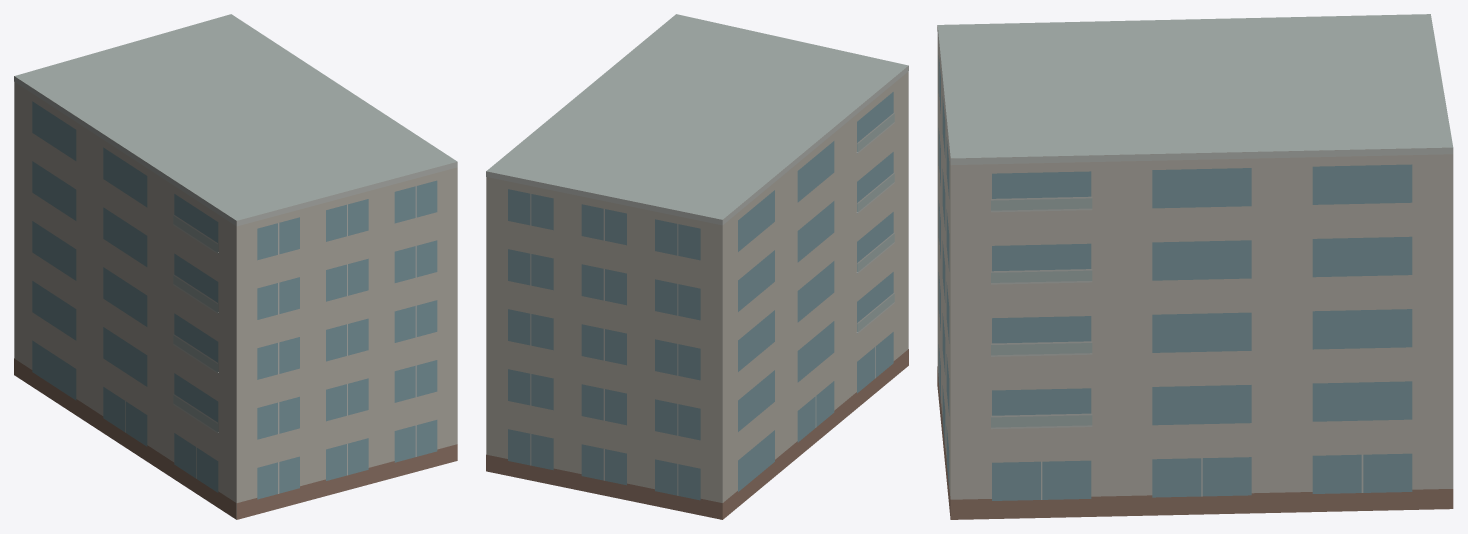
File: survey-upis-32737613.glb
3 views of the same model, side by side, from view 1: azimuth 30°, elevation 25°; view 2: azimuth 150°, elevation 25°; view 3: azimuth 270°, elevation 25° (orthographic). The views are drawn at different scales.
Parts seen in each view (by area): view 1: survey-upis-32737613.tmp; view 2: survey-upis-32737613.tmp; view 3: survey-upis-32737613.tmp.
Boxes of the visible parts, <box> form: survey-upis-32737613.tmp: <box>14,14,457,519</box>; survey-upis-32737613.tmp: <box>486,14,908,519</box>; survey-upis-32737613.tmp: <box>937,14,1453,519</box>.
Bounding box in the file's own units: 11.24 × 13.1 × 16.95.
